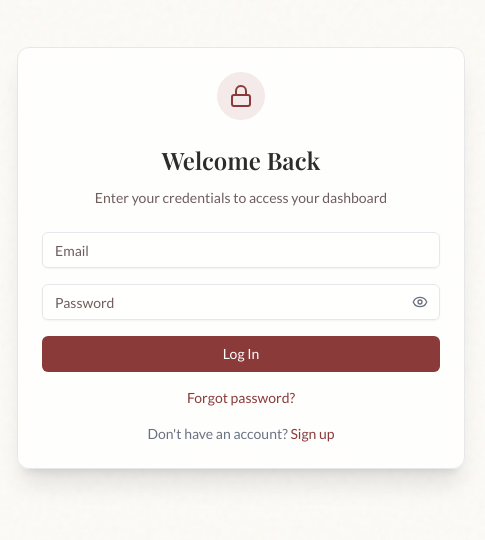
LoginPage › Failed Login › should show error message when login throws exception
The image size is (485, 540).
Type "test@example.com" into the field with placeholder "Email" at (241, 250), box [42,232,440,268]
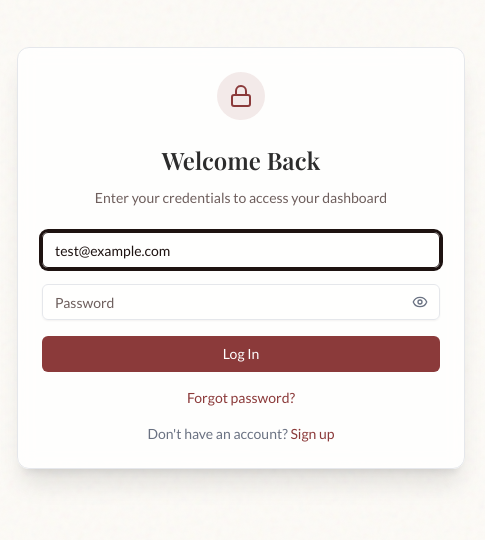
Type "password123" into the password field with placeholder "Password" at (241, 302), box [42,284,440,320]
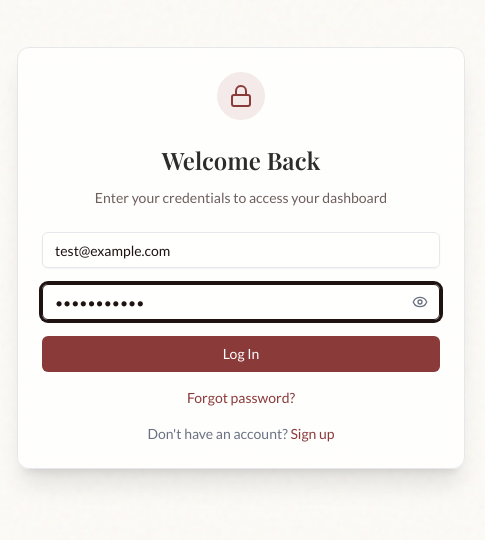
Click the button "Log In" at (241, 354), box [42,336,440,372]
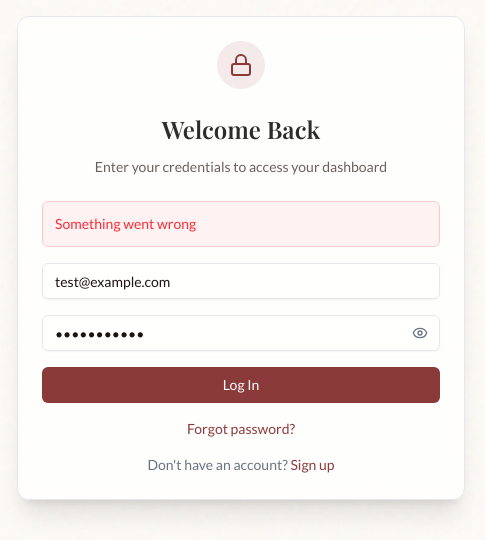
Check: the text "Something went wrong" is shown, box [42,201,440,247]
